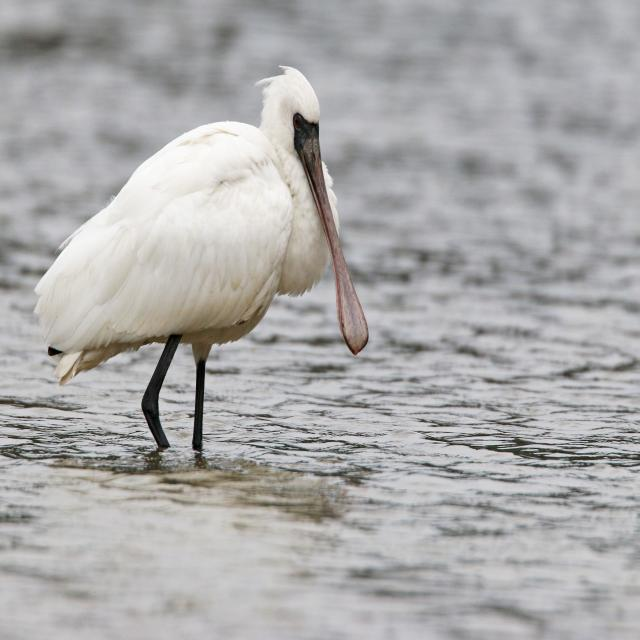Black-faced spoonbill: (36, 68, 367, 449)
